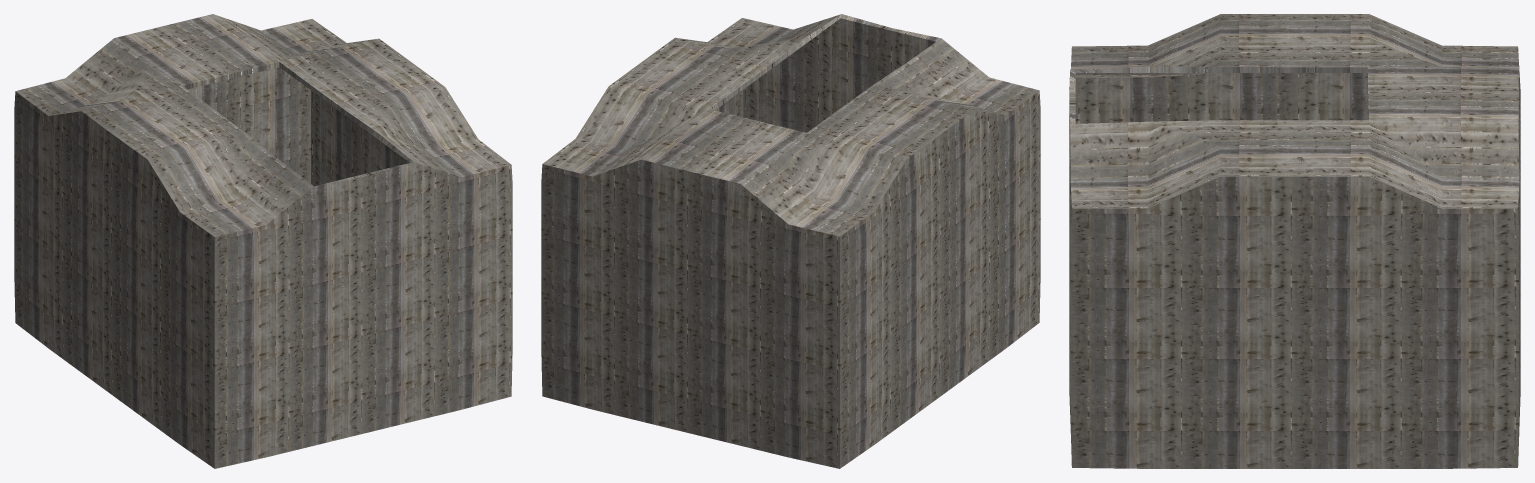
Rendered from Schelder.FBX.
The picture shows the model from 3 angles, left to right: view 1: azimuth 30°, elevation 25°; view 2: azimuth 150°, elevation 25°; view 3: azimuth 270°, elevation 25°; orthographic projection. The views are drawn at different scales.
Parts seen in each view (by area): view 1: Schelder; view 2: Schelder; view 3: Schelder.
Part boxes in pixels (box(x1,y1,x2,y2)): Schelder: box(14, 14, 512, 468); Schelder: box(541, 14, 1040, 468); Schelder: box(1069, 14, 1520, 468).
Bounding box in the file's own units: 62 × 52 × 72.
